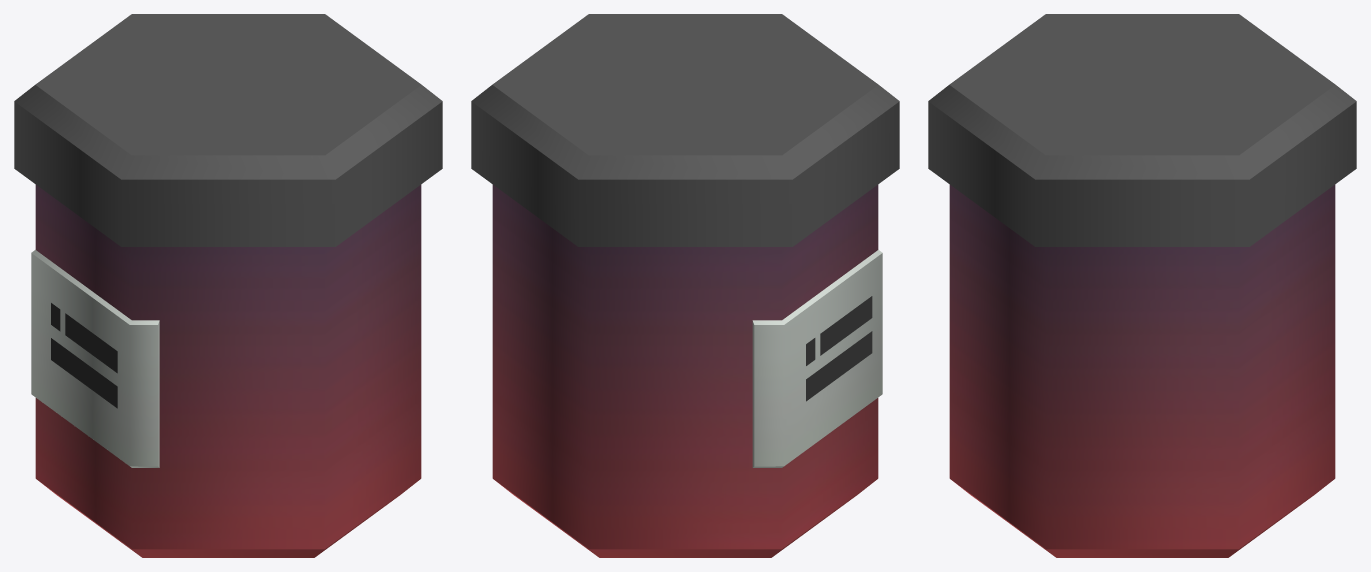
Rendered from Jar_1_I.fbx.
3 renders of one model, left to right at view 1: azimuth 30°, elevation 25°; view 2: azimuth 150°, elevation 25°; view 3: azimuth 270°, elevation 25°, orthographic.
Parts seen in each view (by area): view 1: Jar_1_I; view 2: Jar_1_I; view 3: Jar_1_I.
Part boxes in pixels (x1,y1,x2,y2): Jar_1_I: (14,14,442,557); Jar_1_I: (471,14,899,557); Jar_1_I: (928,14,1356,557).
Bounding box in the file's own units: 17.99 × 21.94 × 20.77.
